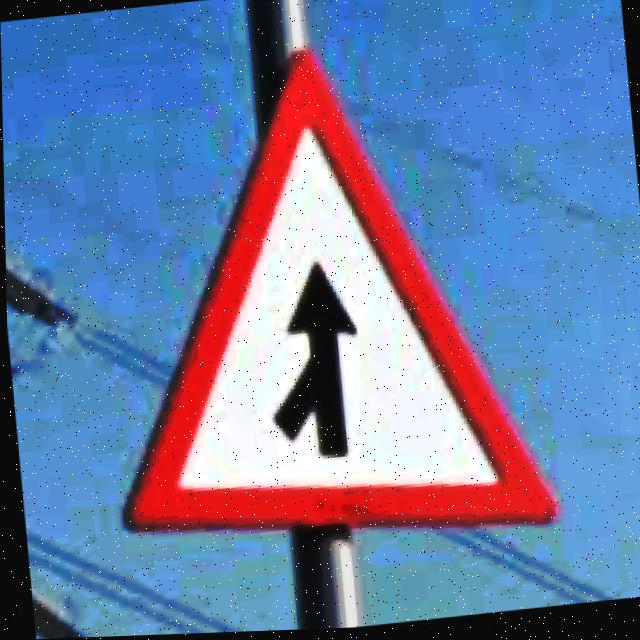leftmerge: (118, 53, 555, 530)
